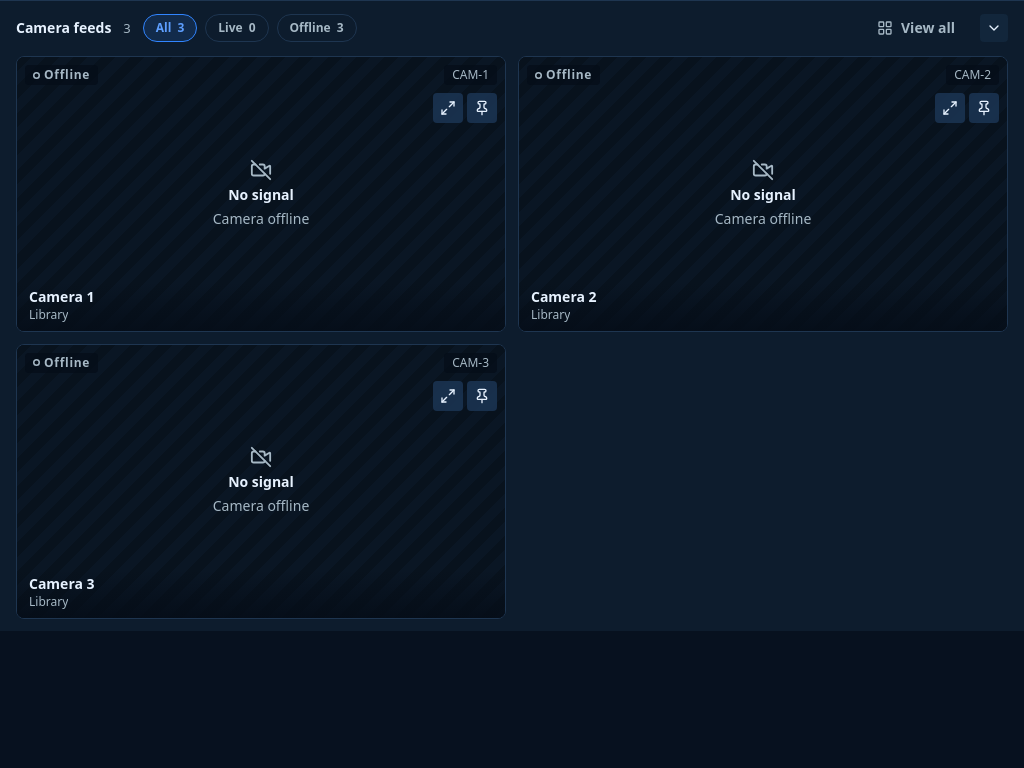
Test case: CameraStrip › header, filter and collapse › the filter › says so when no camera is of the kind chosen
Click the tab "Live 0" at (237, 28), box [205,14,269,42]
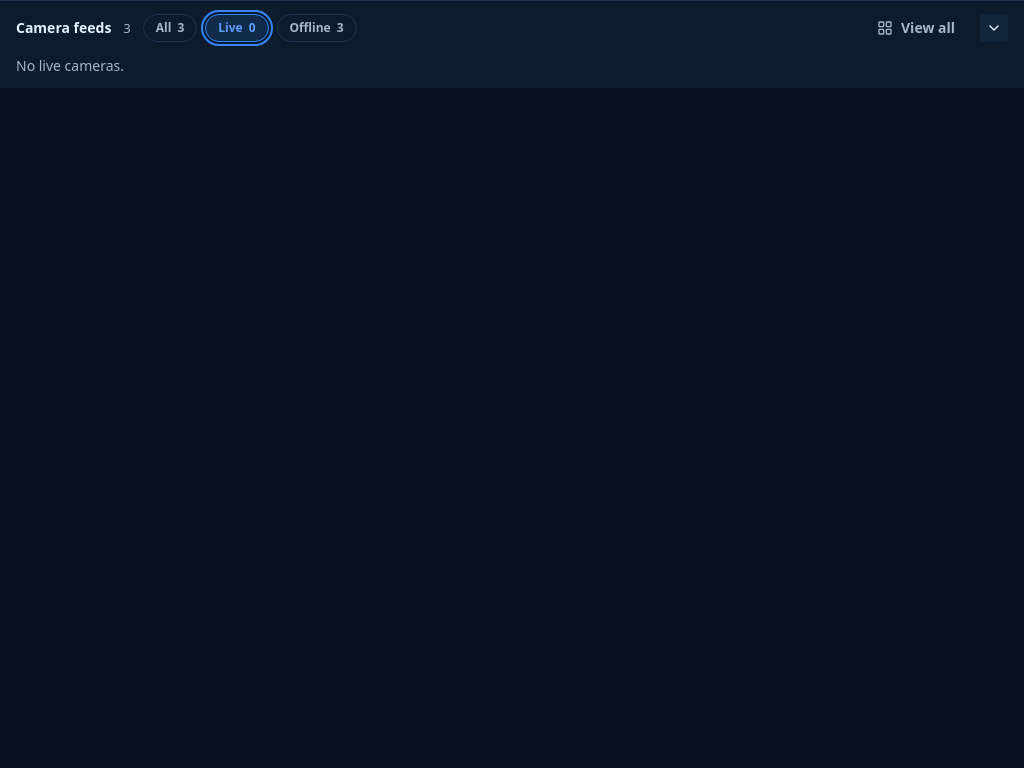
Expected: the text "No live cameras." is shown, [16,56,124,75]
